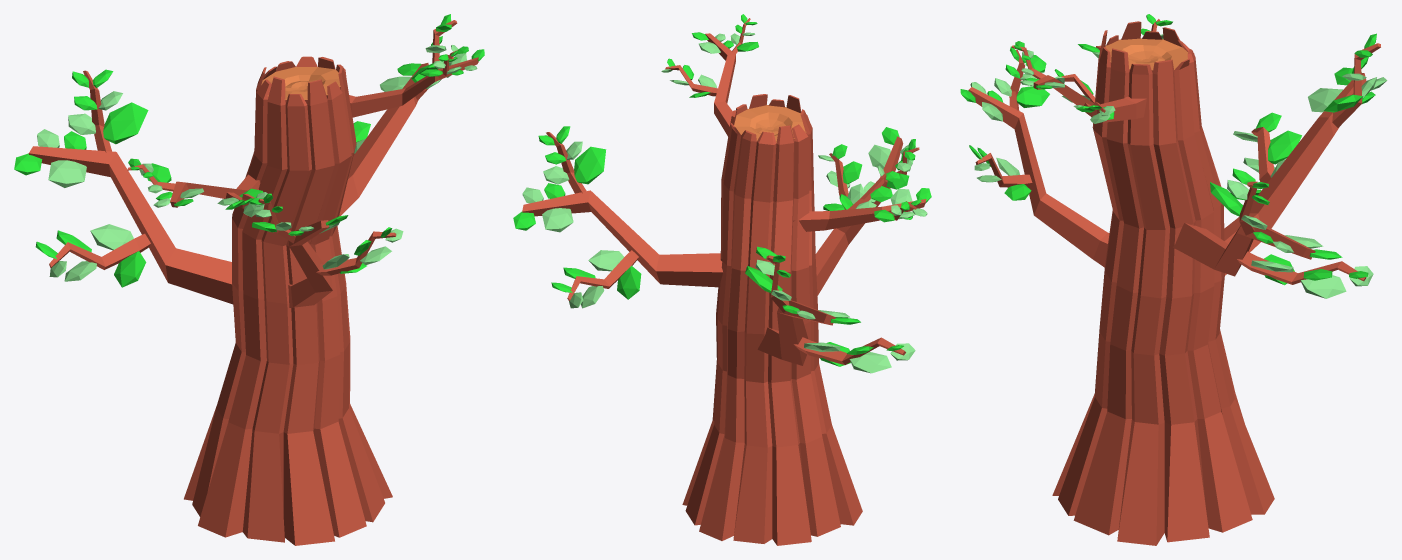
The model's file is treeStump.fbx.
3 renders of one model, left to right at view 1: azimuth 30°, elevation 25°; view 2: azimuth 150°, elevation 25°; view 3: azimuth 270°, elevation 25°, orthographic. The views are drawn at different scales.
Parts seen in each view (by area): view 1: stump, branch1, branch4, branch2, branch5, branch3, top; view 2: stump, branch2, branch1, branch4, branch5, branch3, top; view 3: stump, branch1, branch2, branch4, branch3, top, branch5.
Boxes of the visible parts, <box> form: stump: <box>184,56,392,545</box>; branch1: <box>14,69,233,304</box>; branch4: <box>249,193,403,307</box>; branch2: <box>339,14,457,216</box>; branch5: <box>127,158,267,217</box>; branch3: <box>349,45,484,117</box>; top: <box>261,67,340,99</box>; stump: <box>682,94,862,545</box>; branch2: <box>513,126,723,308</box>; branch1: <box>745,246,915,373</box>; branch4: <box>815,127,919,295</box>; branch5: <box>793,165,931,231</box>; branch3: <box>661,14,758,136</box>; top: <box>734,105,806,142</box>; stump: <box>1052,21,1274,545</box>; branch1: <box>1224,33,1387,275</box>; branch2: <box>1173,168,1373,298</box>; branch4: <box>960,46,1109,267</box>; branch3: <box>1011,41,1146,123</box>; top: <box>1105,38,1187,70</box>; branch5: <box>1054,14,1172,102</box>.
Bounding box in the file's own units: 913 × 993 × 762.
